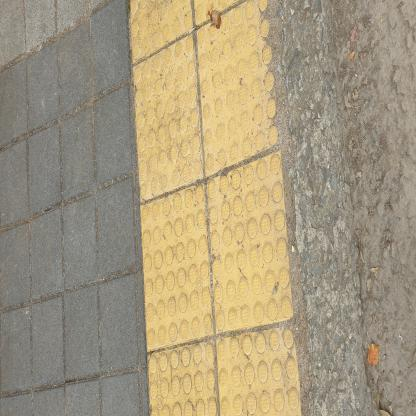podotacti: (124, 0, 307, 415)
